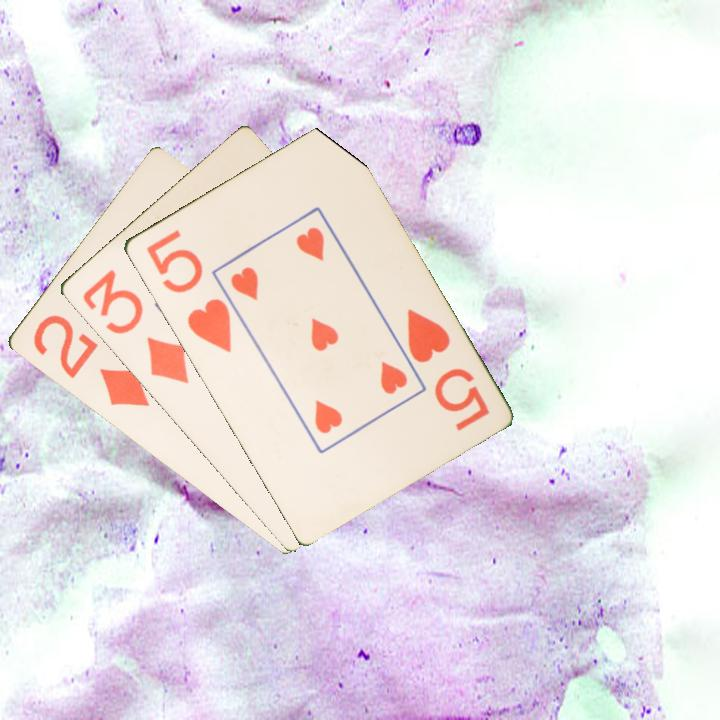2d: (29, 311, 152, 410)
3d: (78, 265, 192, 387)
5h: (141, 225, 234, 356), (402, 304, 492, 434)
